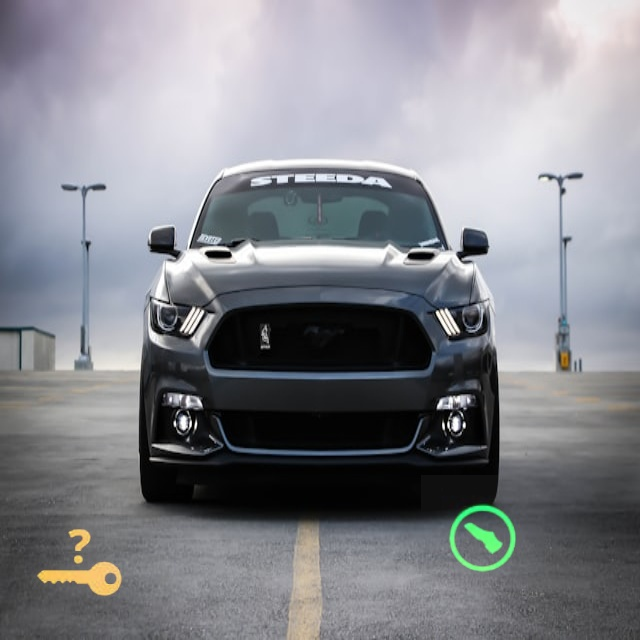symbol: (14, 498, 144, 628), (421, 475, 550, 604)
